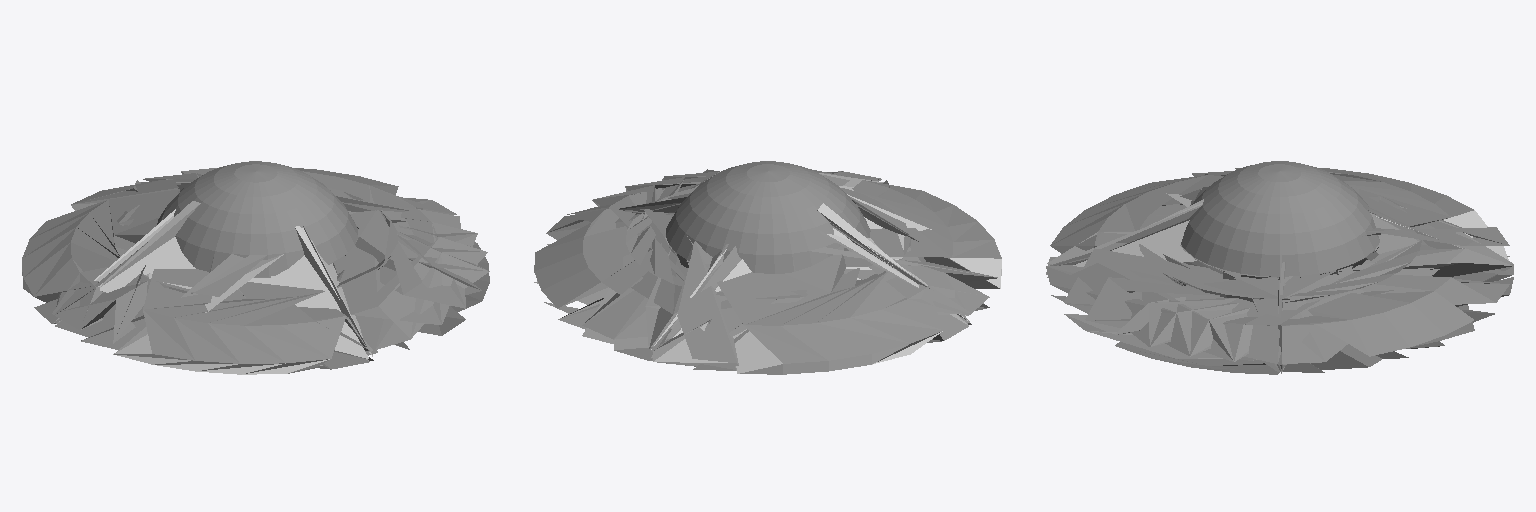
The model's file is Low_poly_UFO.obj.
3 renders of one model, left to right at view 1: azimuth 30°, elevation 25°; view 2: azimuth 150°, elevation 25°; view 3: azimuth 270°, elevation 25°, orthographic.
Visible parts, largest first — view 1: UFO_body, UFO_cockpit; view 2: UFO_body, UFO_cockpit; view 3: UFO_body, UFO_cockpit.
Part boxes in pixels (x1,y1,x2,y2): UFO_body: (22, 167, 489, 374); UFO_cockpit: (157, 161, 357, 276); UFO_body: (534, 169, 1001, 374); UFO_cockpit: (666, 161, 870, 273); UFO_body: (1046, 168, 1513, 374); UFO_cockpit: (1181, 161, 1379, 276).
Size of the model in its own units: 67.87 by 27.04 by 67.87.